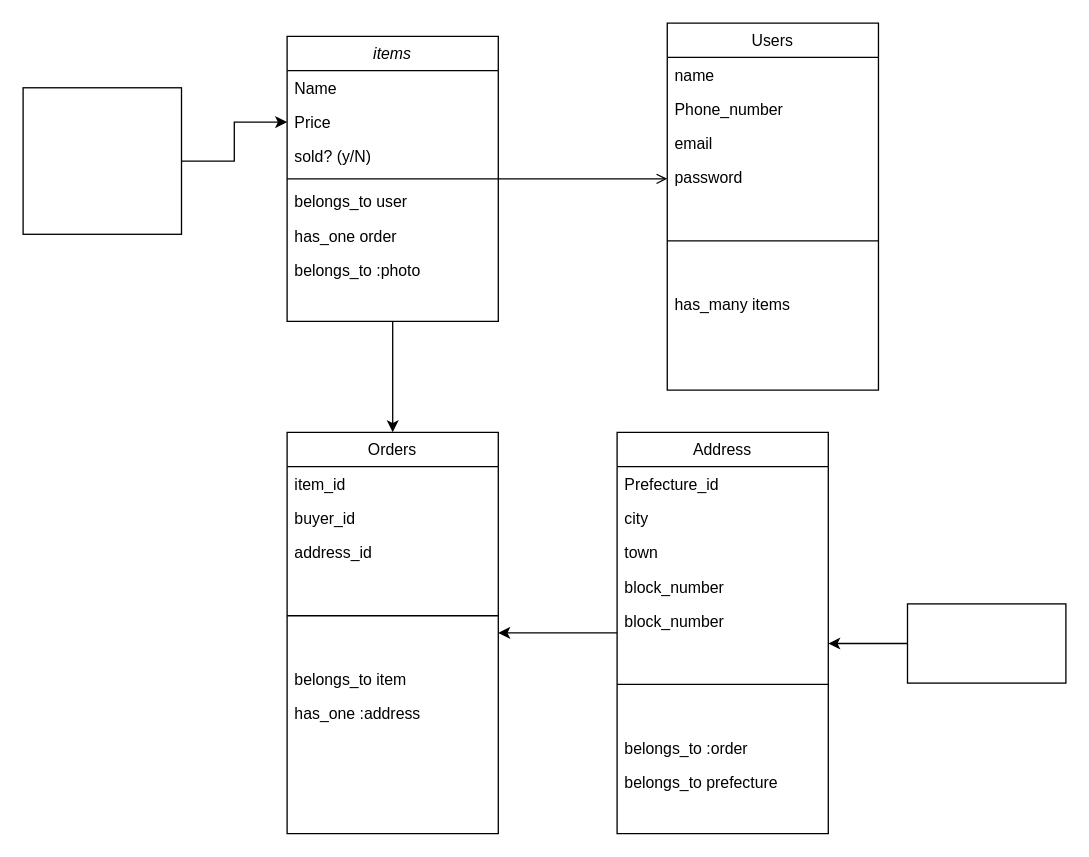
Image size: 1089x857. Some labels were removed from this diagram. Here are the shapes that lost their labels. From the top down, the centre of each, then its label:
the point at 102,160: ActiveStorage item_photos
the point at 986,643: ActiveHash Prefecture
